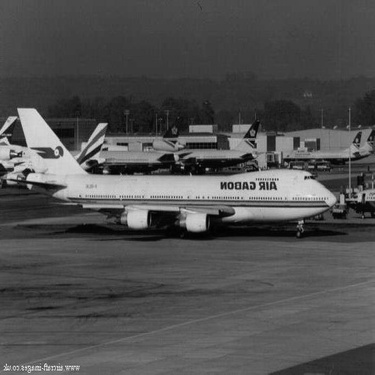airplane: (1, 92, 343, 239)
